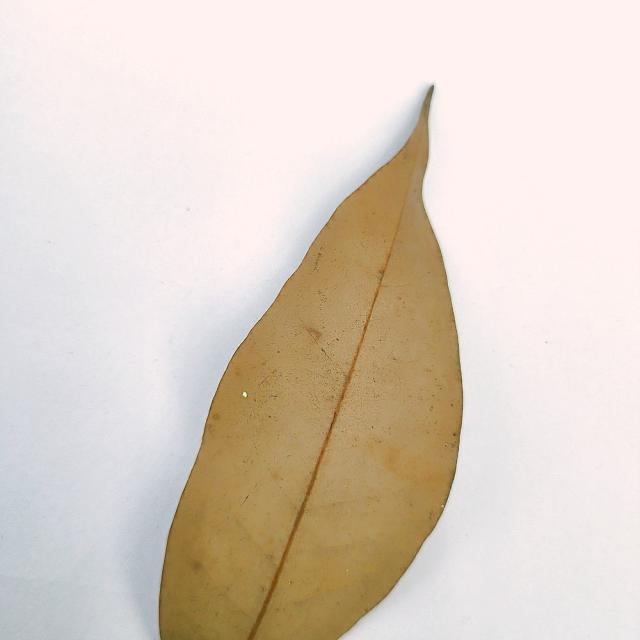Dry_Leaf-Lychee: (157, 90, 465, 639)
